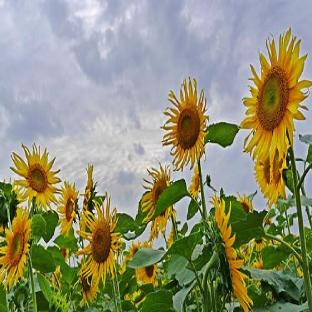sunflower: (240, 28, 312, 312), (162, 77, 240, 227)
